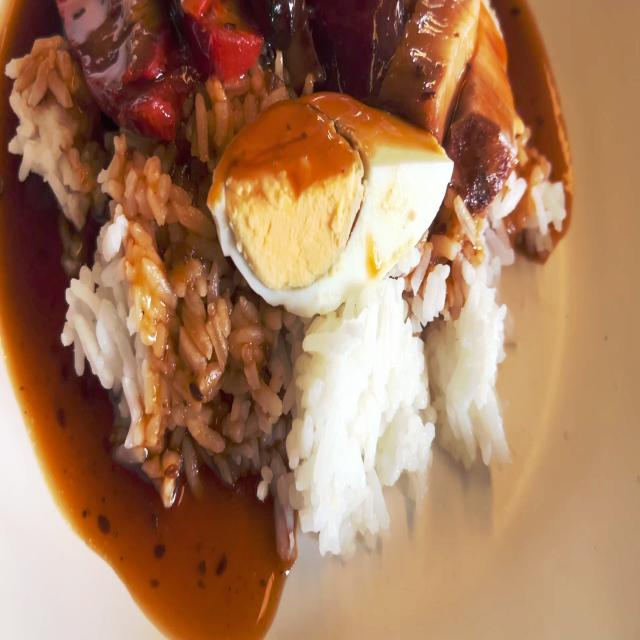boiled_egg: (213, 99, 449, 297)
chainese_sausage: (257, 0, 399, 104)
crispy_pork: (395, 0, 515, 195)
red_pork: (65, 0, 261, 123)
red_pork_and_crispy_pork: (0, 0, 575, 556)
rice: (229, 312, 504, 524), (70, 154, 229, 464), (446, 175, 570, 382), (17, 28, 101, 216)
